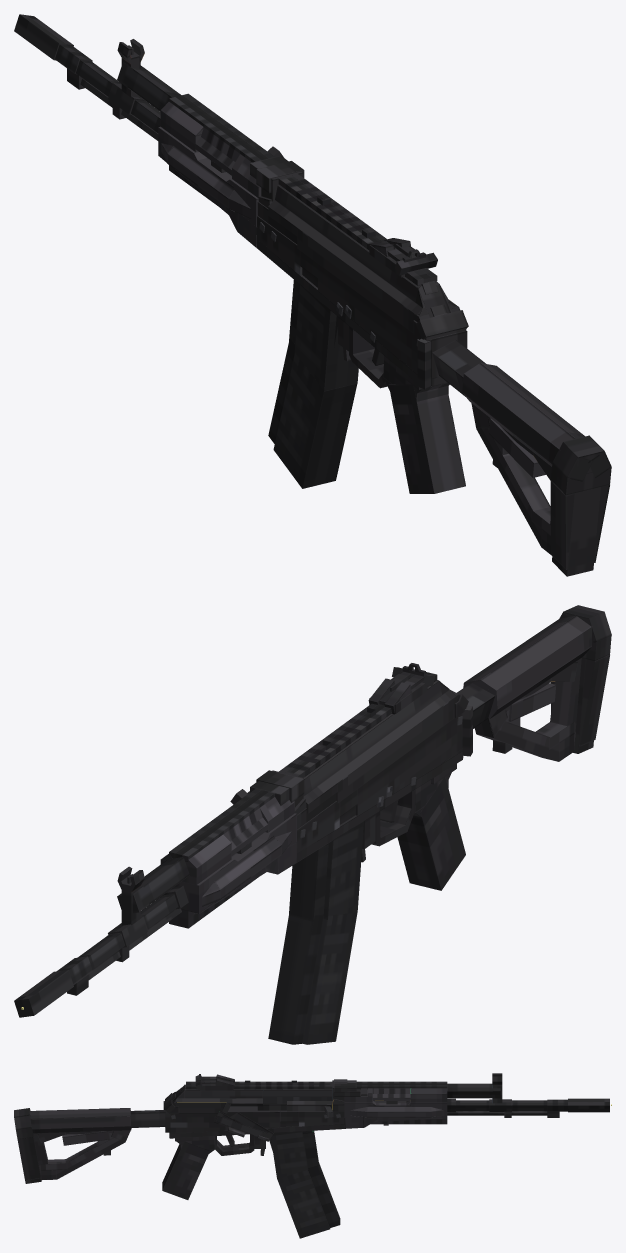
The picture shows the model from 3 angles, top to bottom: view 1: azimuth 30°, elevation 25°; view 2: azimuth 150°, elevation 25°; view 3: azimuth 270°, elevation 25°; orthographic projection. The views are drawn at different scales.
Visible parts, largest first — view 1: gun, stock, magazine; view 2: gun, stock, magazine; view 3: gun, stock, magazine, action, switch.
Boxes of the visible parts, x1,y1,x2,y2 form: gun: (14, 14, 468, 493); stock: (432, 340, 611, 576); magazine: (268, 280, 358, 488); gun: (14, 663, 472, 1017); stock: (457, 605, 611, 761); magazine: (268, 821, 363, 1044); gun: (162, 1073, 609, 1199); stock: (14, 1108, 165, 1183); magazine: (269, 1130, 340, 1238); action: (257, 1097, 333, 1117); switch: (213, 1111, 273, 1141).
Size of the model in its own units: 48.1 by 206 by 699.
